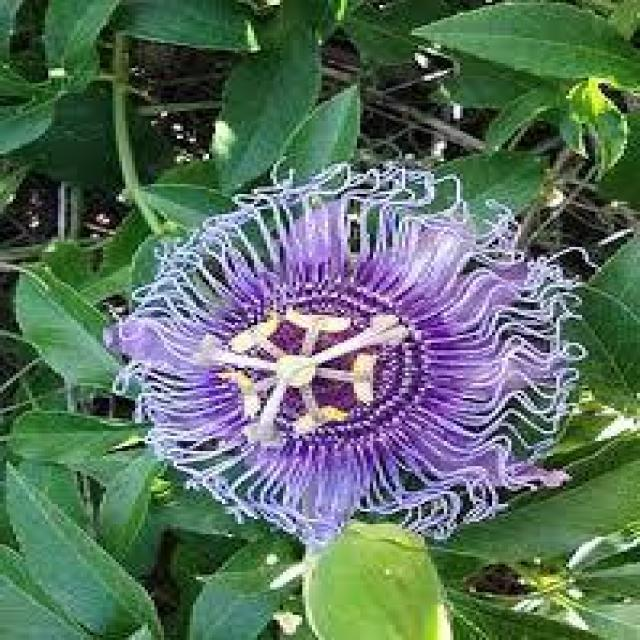organic waste: (88, 164, 600, 547)
